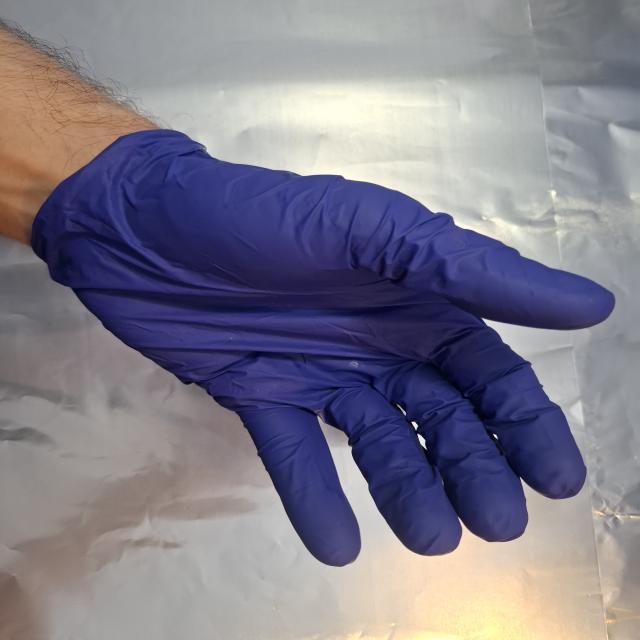glove_on: (32, 131, 621, 567)
